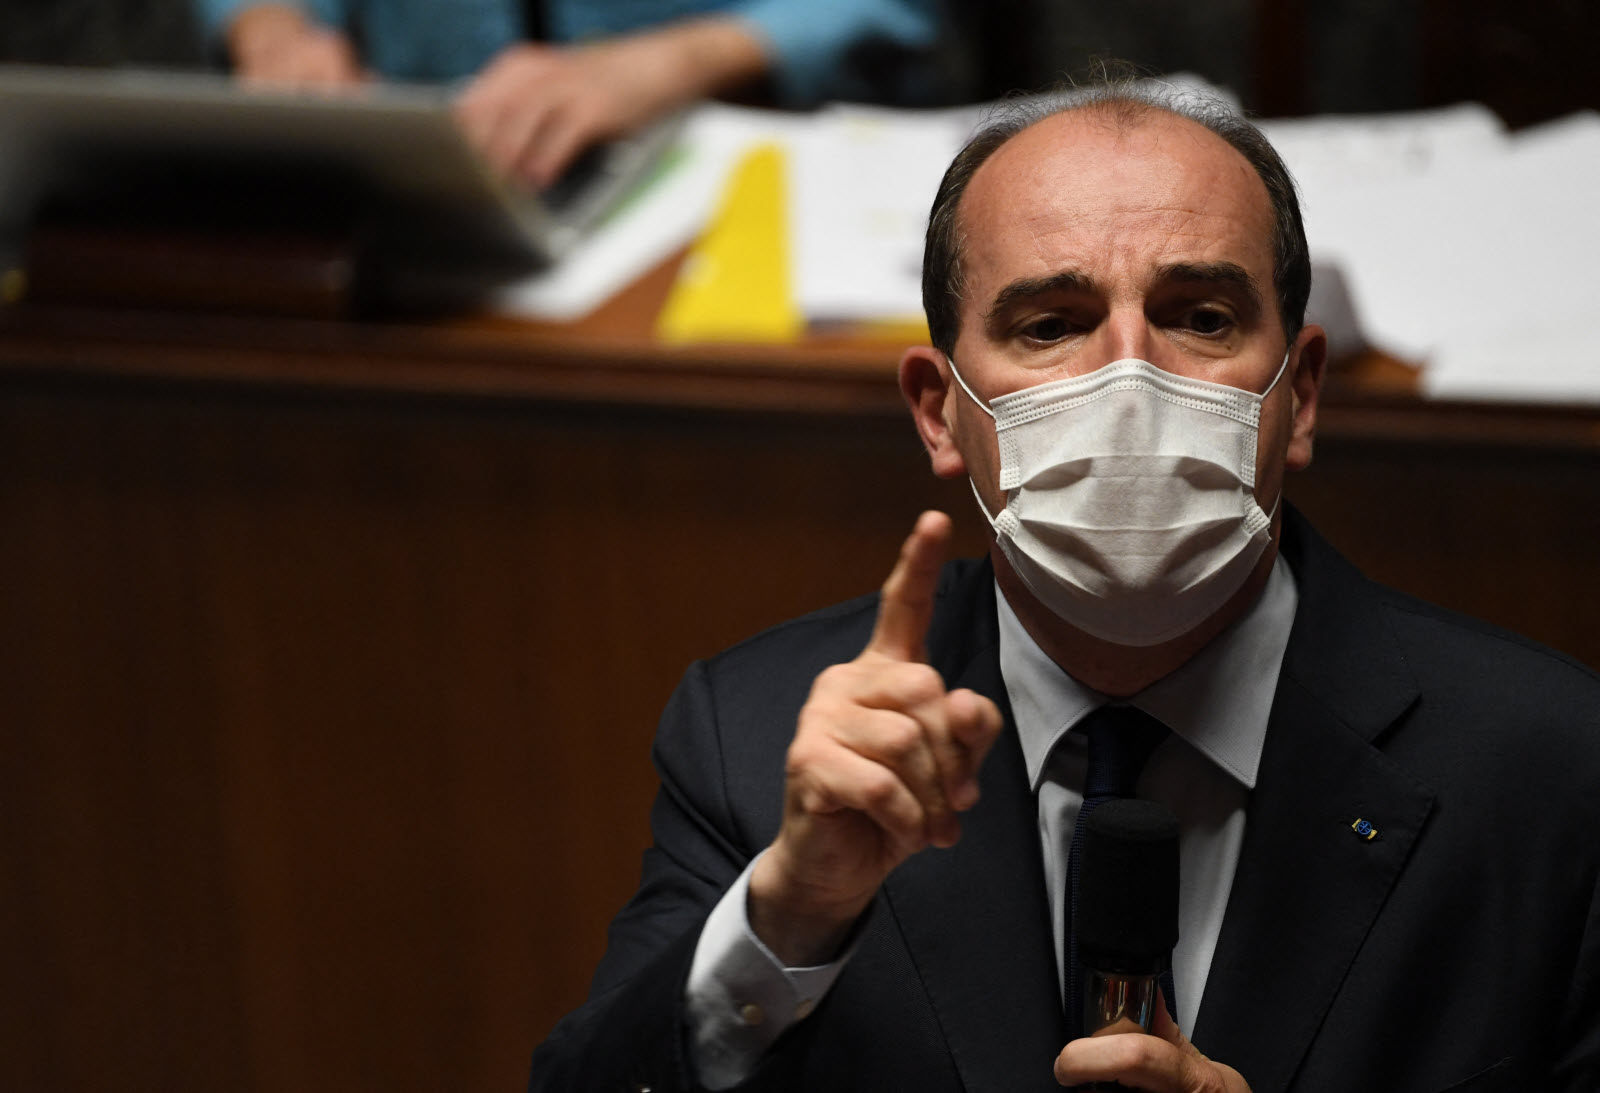with_mask: (941, 169, 1307, 605)
